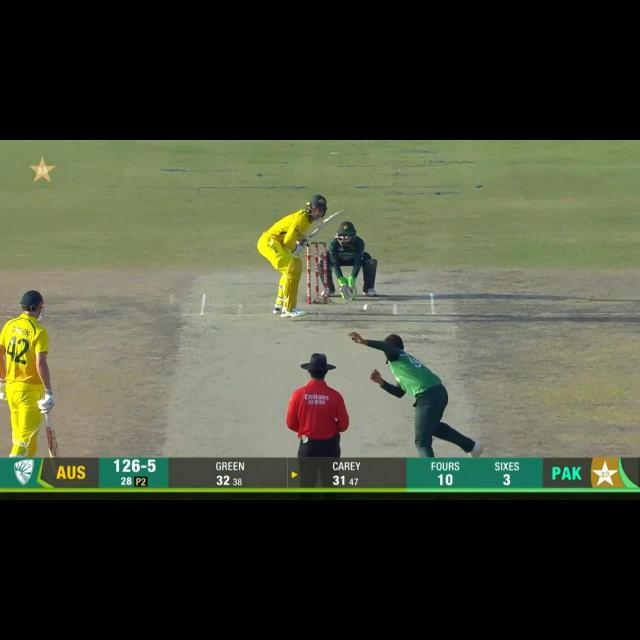bat: (308, 209, 343, 238), (42, 427, 61, 458)
toe: (331, 208, 344, 218)
